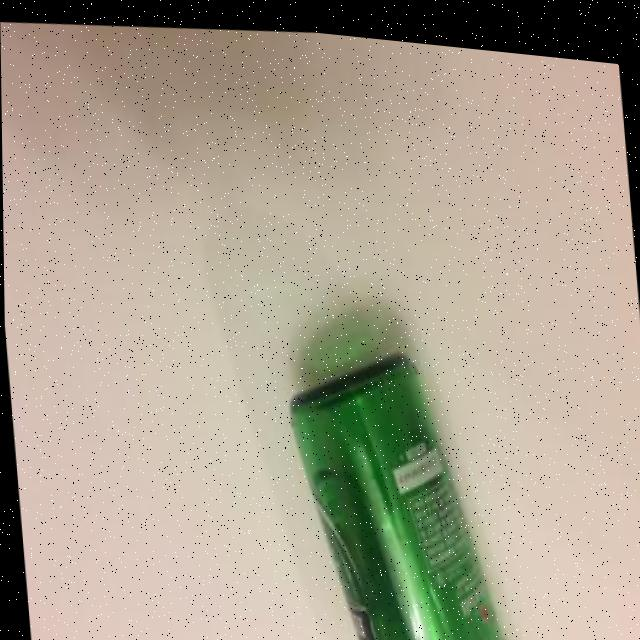glass: (276, 307, 529, 640)
